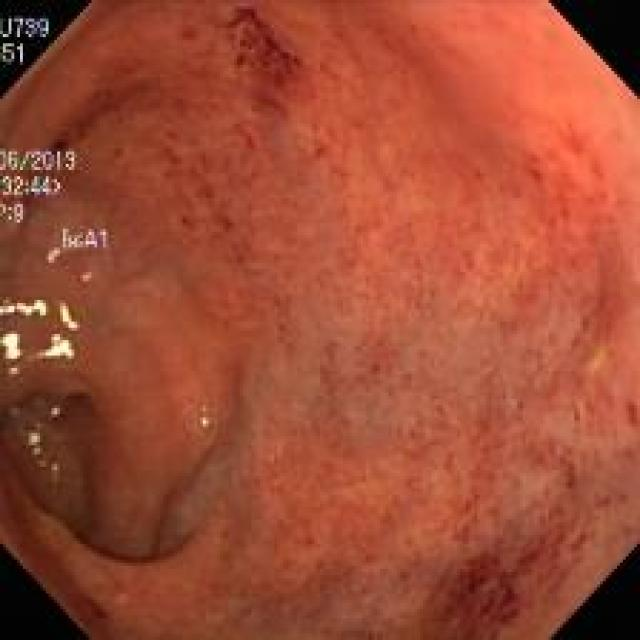ulcerative-colitis-grade-1: (21, 4, 639, 640)
